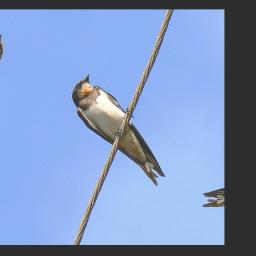Swallow: (53, 69, 188, 188)
